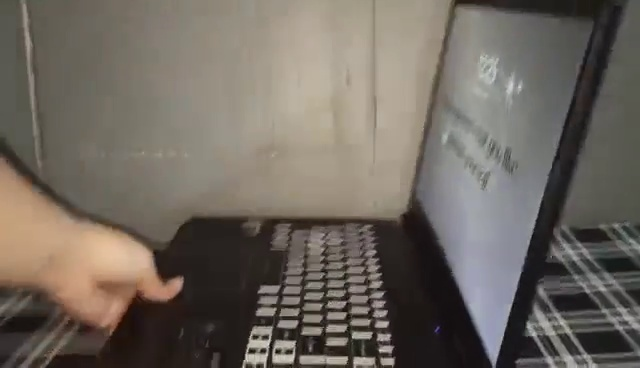laptop: (95, 1, 620, 365)
